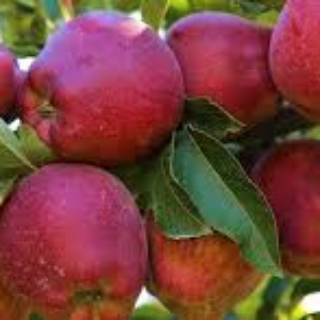tao: (25, 10, 184, 171), (3, 161, 150, 319)
